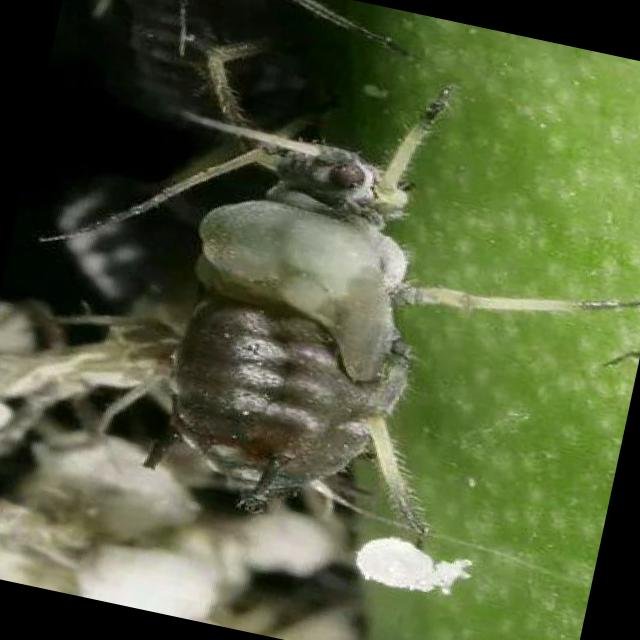aphid: (100, 89, 490, 540)
